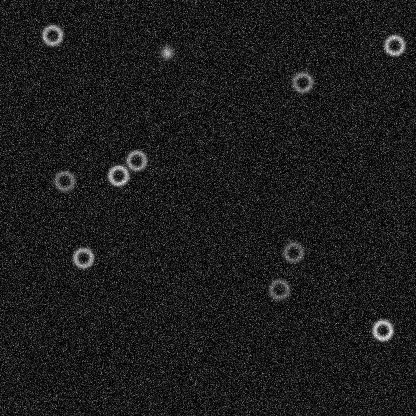Ring: (290, 70, 314, 94), (124, 148, 148, 172), (382, 33, 406, 57), (267, 277, 291, 301), (106, 163, 130, 187), (370, 318, 394, 342), (281, 240, 305, 264), (52, 168, 76, 192), (71, 245, 95, 269), (40, 23, 64, 47)
Spot: (158, 44, 174, 60)
